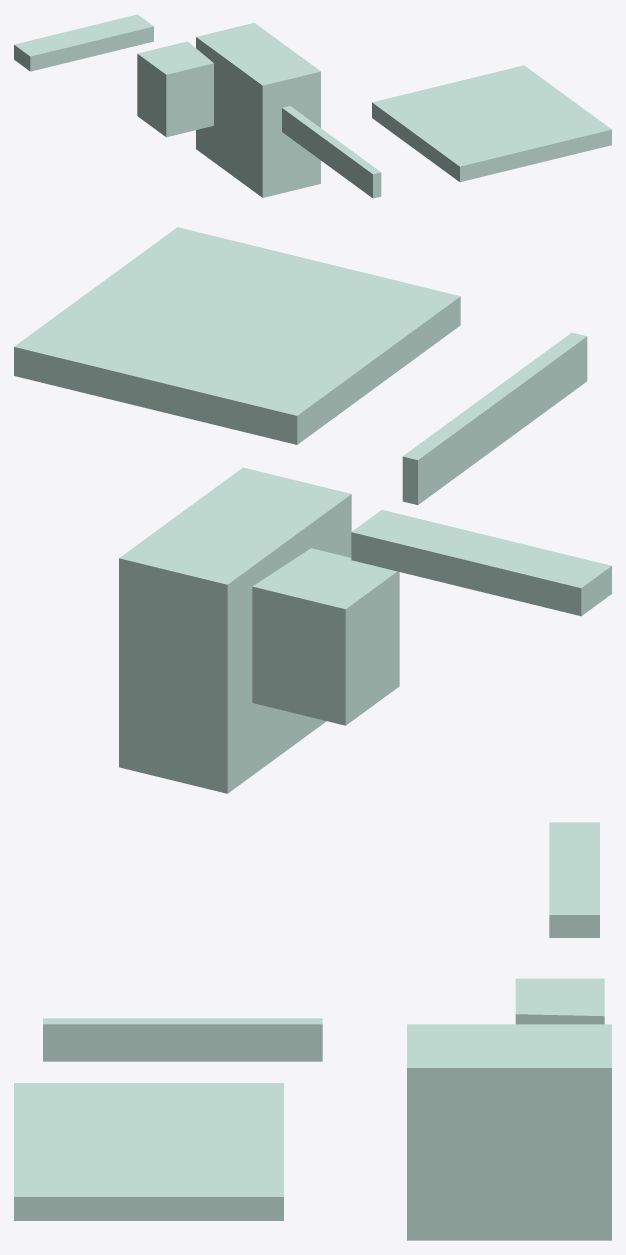
3 views of the same model, one above another, from view 1: azimuth 30°, elevation 25°; view 2: azimuth 150°, elevation 25°; view 3: azimuth 270°, elevation 25° (orthographic). The views are drawn at different scales.
Parts seen in each view (by area): view 1: Renderer Node; view 2: Renderer Node; view 3: Renderer Node.
Boxes of the visible parts, left/top/right/bottom form: Renderer Node: left=14, top=14, right=611, bottom=198; Renderer Node: left=14, top=227, right=611, bottom=793; Renderer Node: left=14, top=822, right=611, bottom=1240.
Size of the model in its own units: 2.34 by 0.8407 by 1.94.
